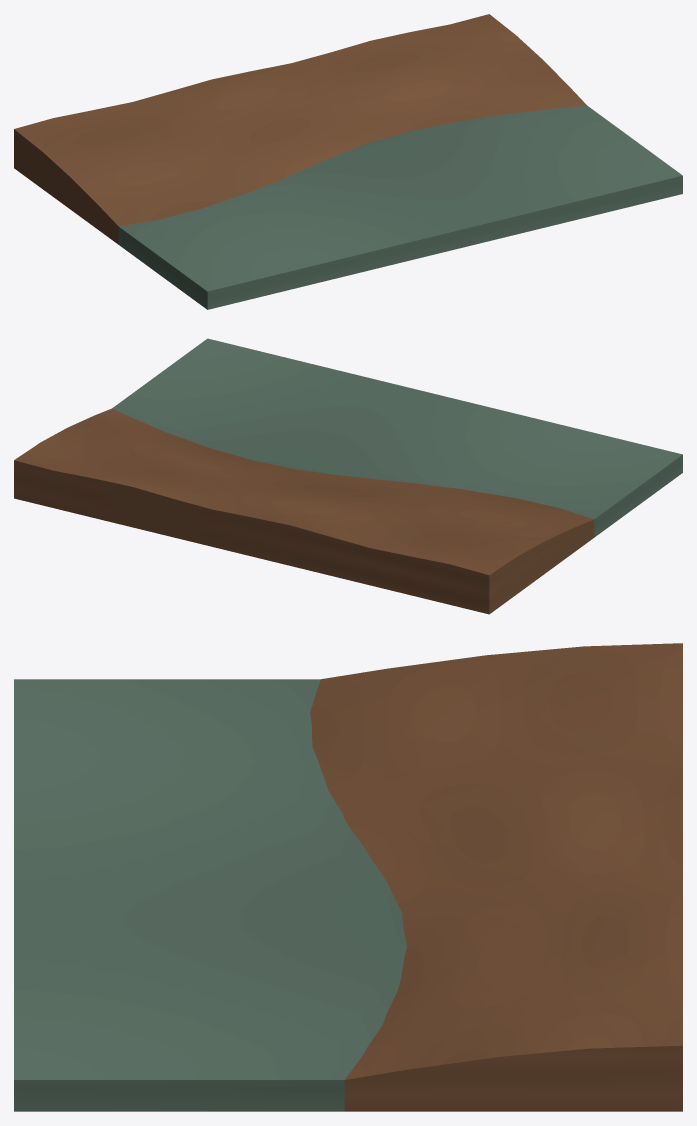
3 views of the same model, one above another, from view 1: azimuth 30°, elevation 25°; view 2: azimuth 150°, elevation 25°; view 3: azimuth 270°, elevation 25° (orthographic). The views are drawn at different scales.
Visible parts, largest first — view 1: birnin-kebbi; view 2: birnin-kebbi; view 3: birnin-kebbi.
Boxes of the visible parts, x1,y1,x2,y2 form: birnin-kebbi: [14, 14, 682, 309]; birnin-kebbi: [14, 338, 682, 614]; birnin-kebbi: [14, 643, 682, 1111].
Bounding box in the file's own units: 5.52 × 0.4499 × 3.89.
Materials: 1 (1 with a texture image).
